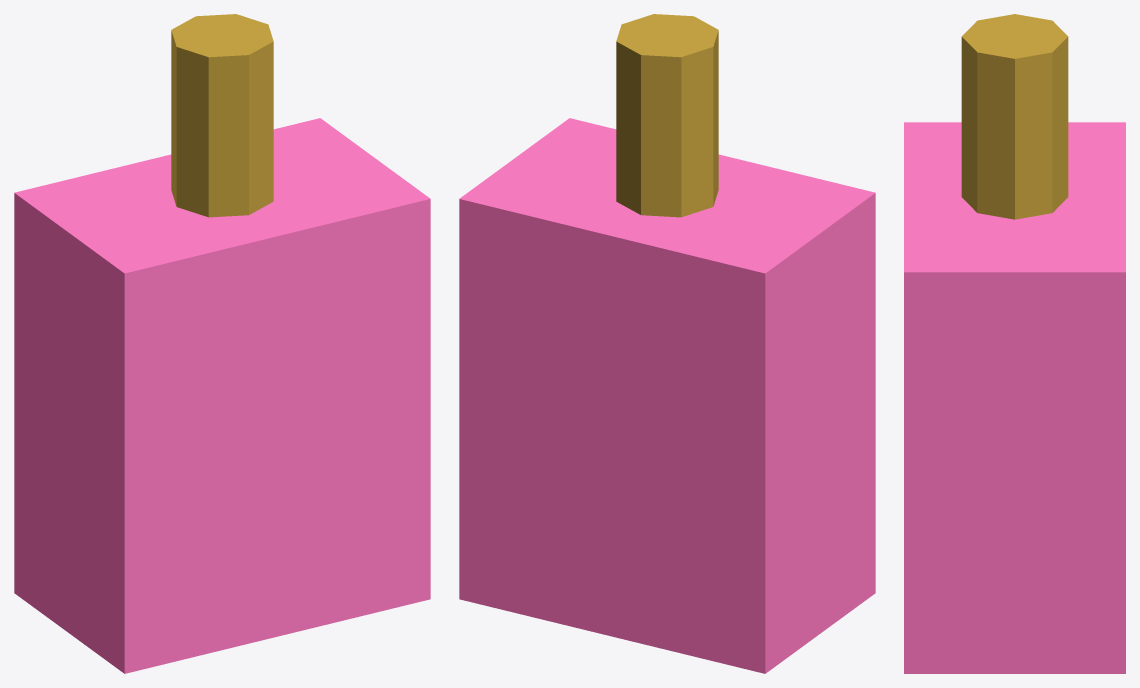
Rendered from sample_flask.glb.
3 renders of one model, left to right at view 1: azimuth 30°, elevation 25°; view 2: azimuth 150°, elevation 25°; view 3: azimuth 270°, elevation 25°, orthographic.
Visible parts, largest first — view 1: flask_perfume_pink, pump_perfume_gold; view 2: flask_perfume_pink, pump_perfume_gold; view 3: flask_perfume_pink, pump_perfume_gold.
Boxes of the visible parts, x1,y1,x2,y2 form: flask_perfume_pink: (14,118,430,673); pump_perfume_gold: (171,14,273,217); flask_perfume_pink: (459,118,875,673); pump_perfume_gold: (616,14,718,217); flask_perfume_pink: (904,122,1125,673); pump_perfume_gold: (961,14,1068,219).
Bounding box in the file's own units: 0.08 × 0.14 × 0.05.
